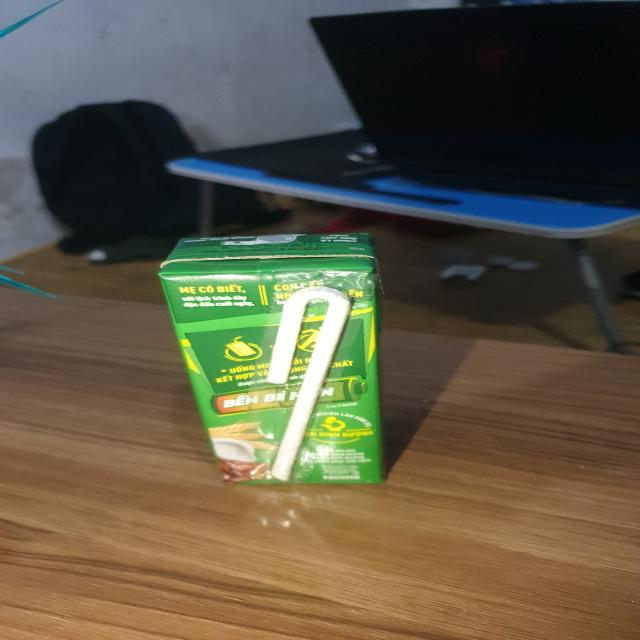Milo: (151, 230, 412, 488)
